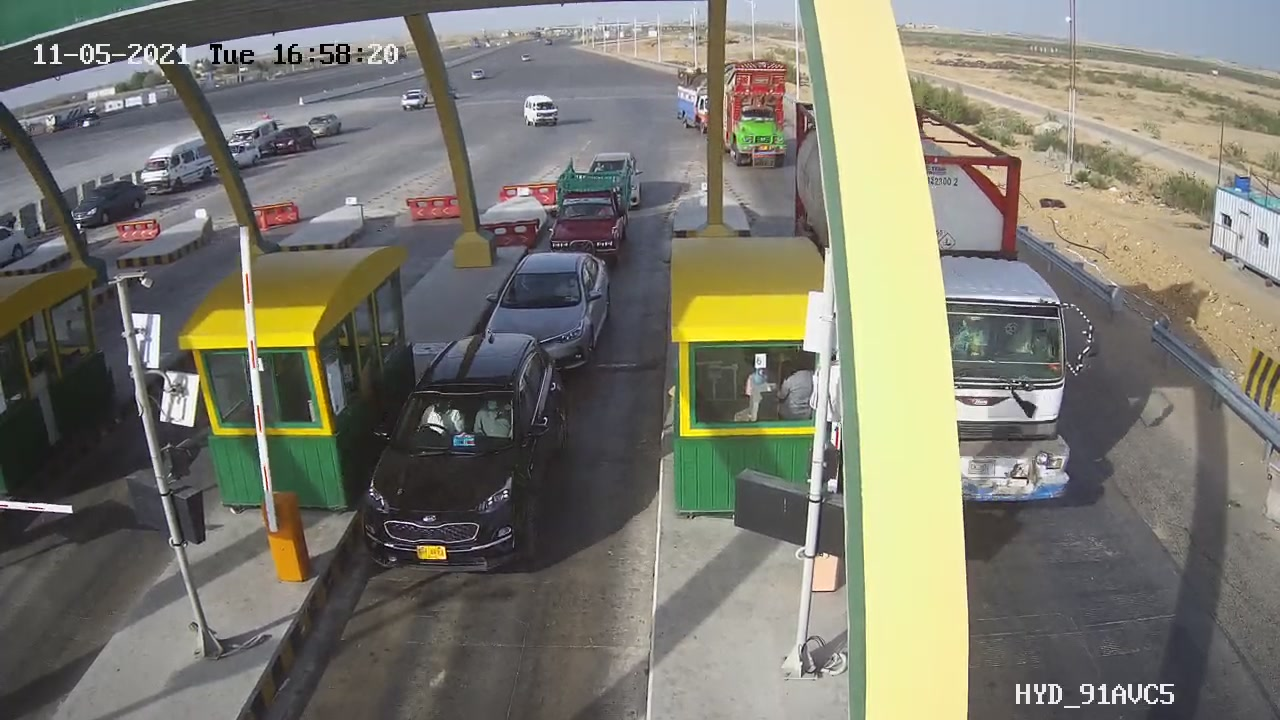F1: (346, 323, 581, 584), (476, 241, 623, 384)
